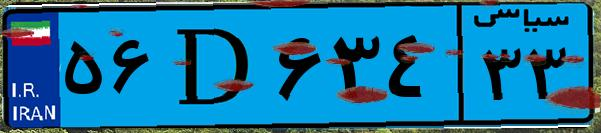3: (330, 28, 385, 110), (475, 38, 525, 113), (525, 38, 570, 115)
4: (385, 28, 445, 110)
5: (57, 26, 110, 100)
6: (270, 28, 330, 110), (110, 28, 158, 98)
D: (158, 12, 270, 120)
